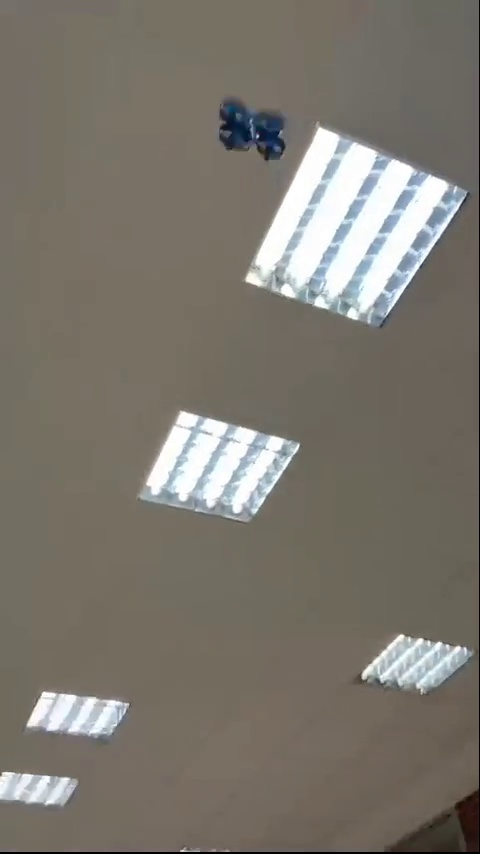drone: (220, 104, 292, 158)
